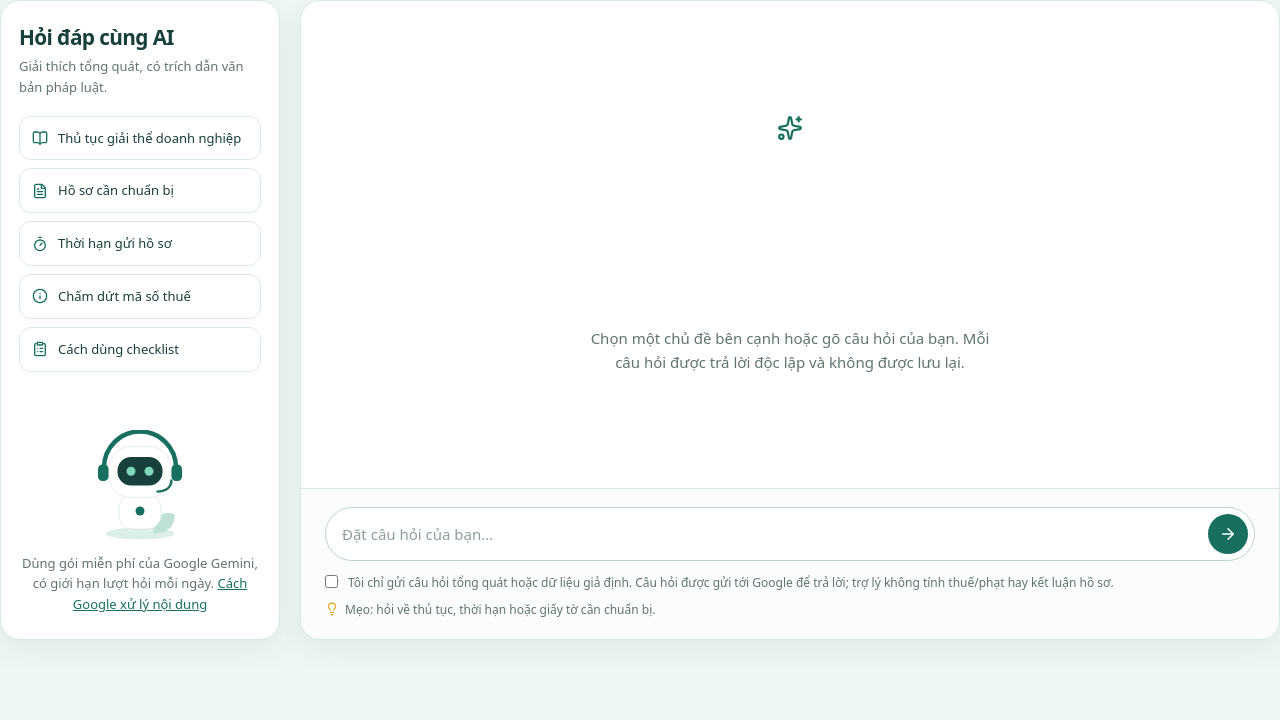
Trợ lý có nguồn › dùng thông báo an toàn khi lỗi không có kiểu Error
The image size is (1280, 720).
In the field labelled "câu hỏi của bạn": (770, 534) [342,514,1198,554], type "Tôi dùng checklist thế nào?"
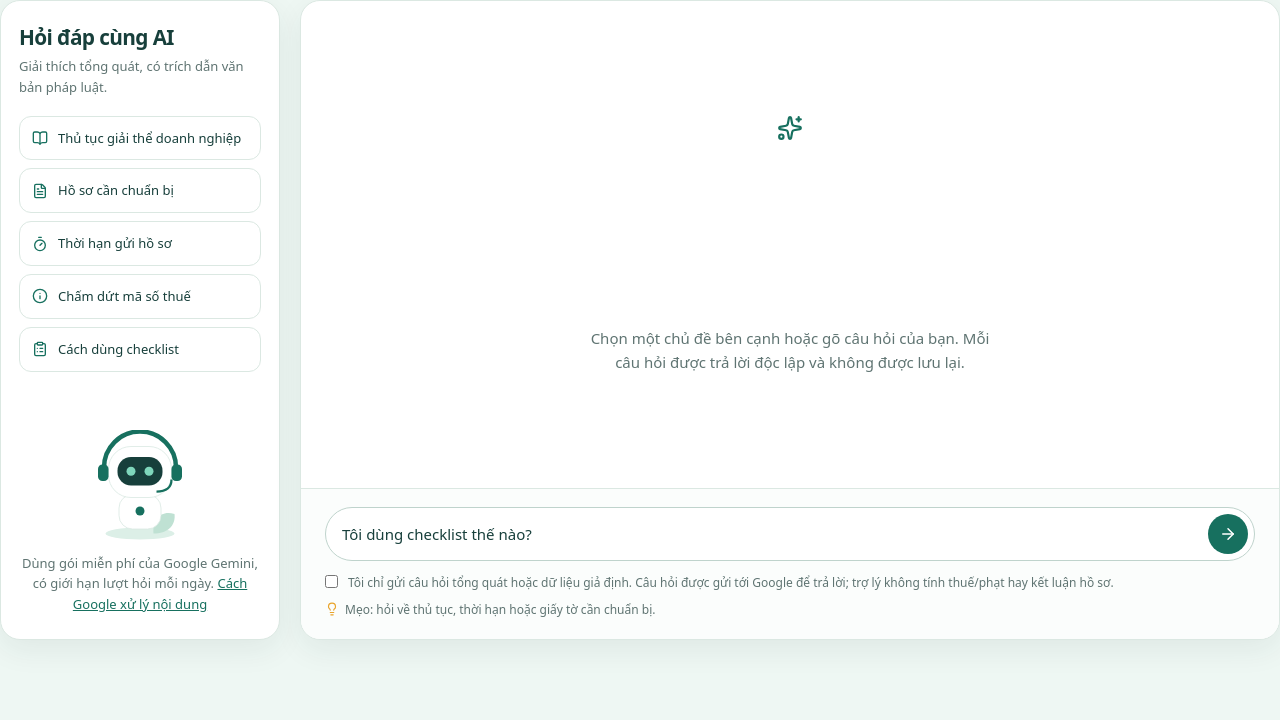
Click the checkbox: (332, 581) [325,575,338,588]
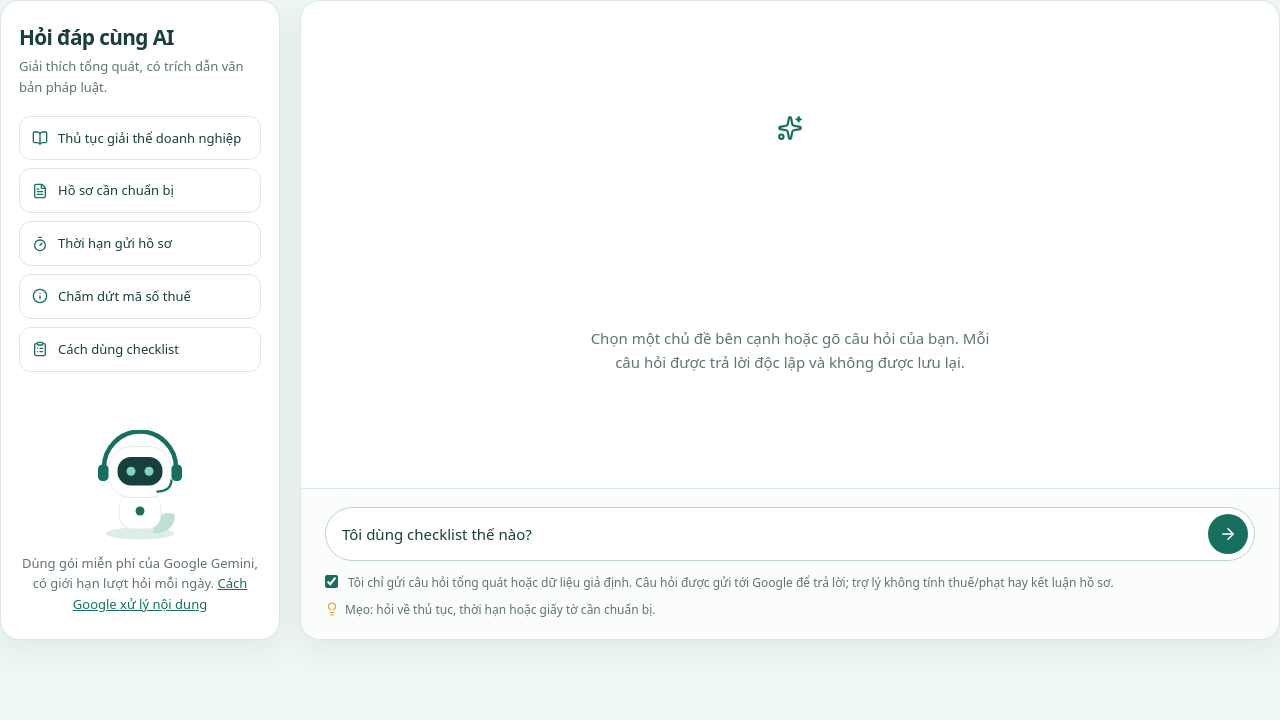
Click the button named "Gửi câu hỏi": (1228, 534) [1208,514,1248,554]
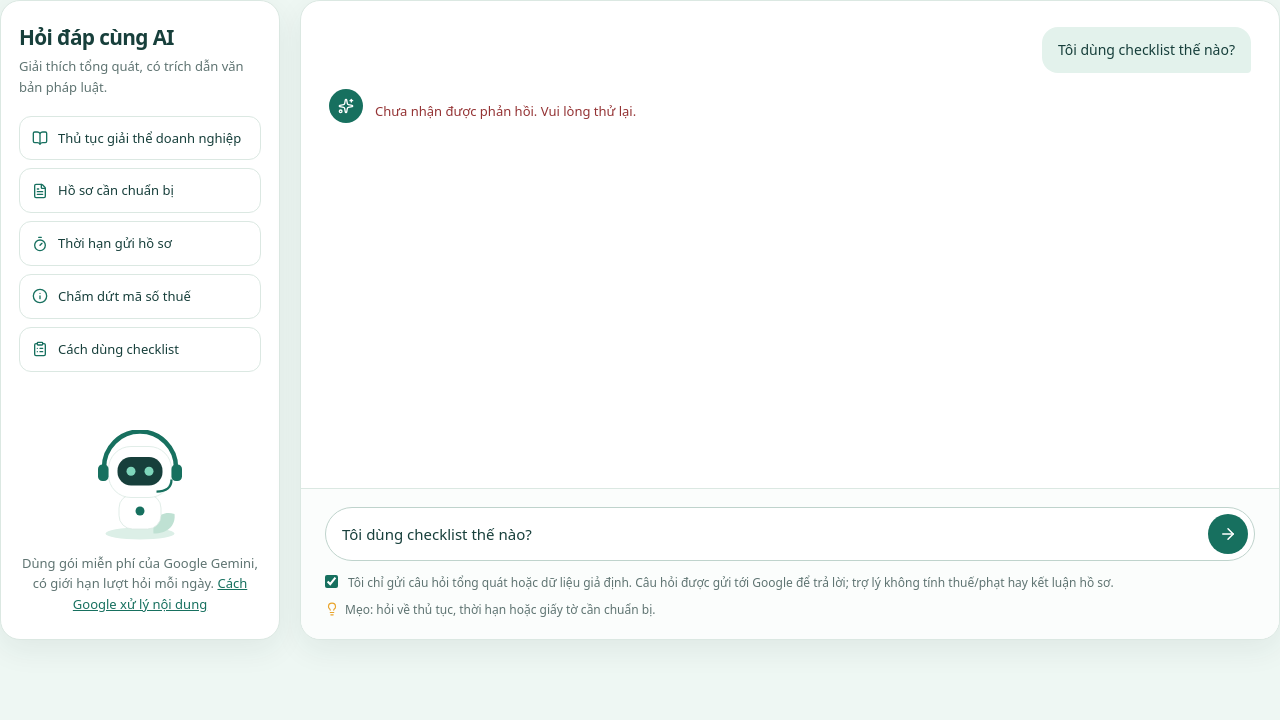
Result: the message shows "Chưa nhận được phản hồi." at [375,102,636,120]
